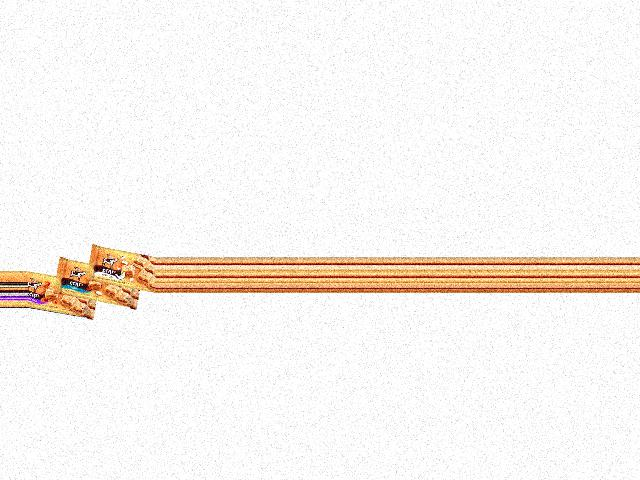chocolate: (26, 270, 102, 315)
